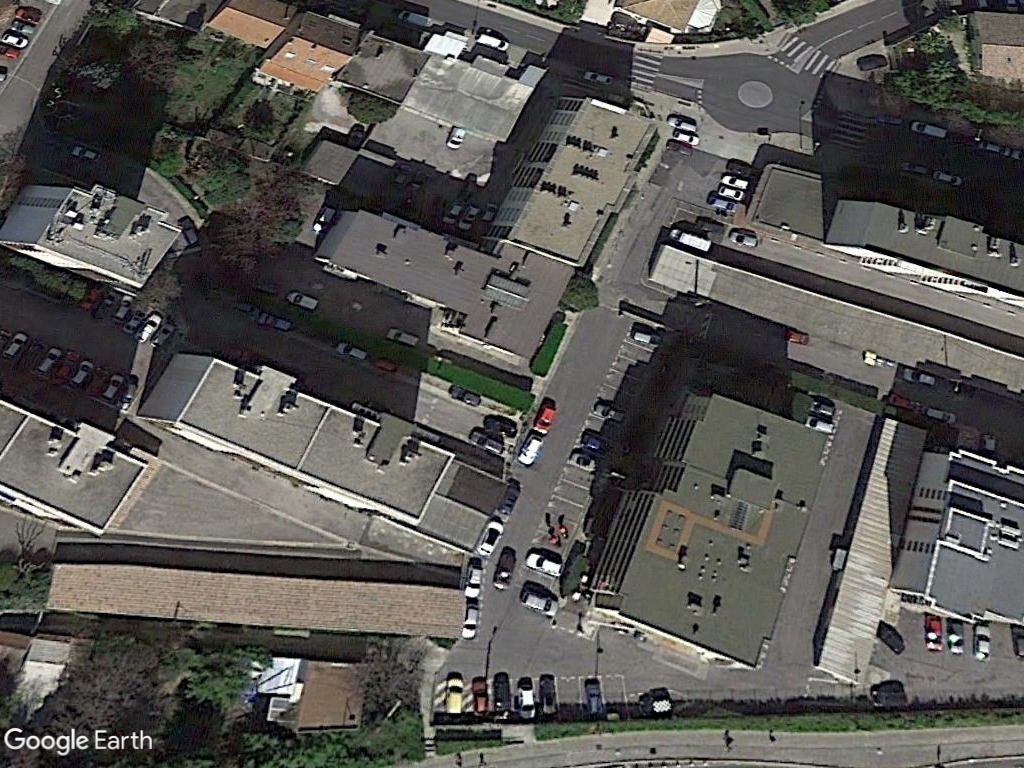car: (525, 548, 567, 578), (582, 676, 606, 721), (517, 679, 539, 724)
truck: (668, 224, 713, 253)
